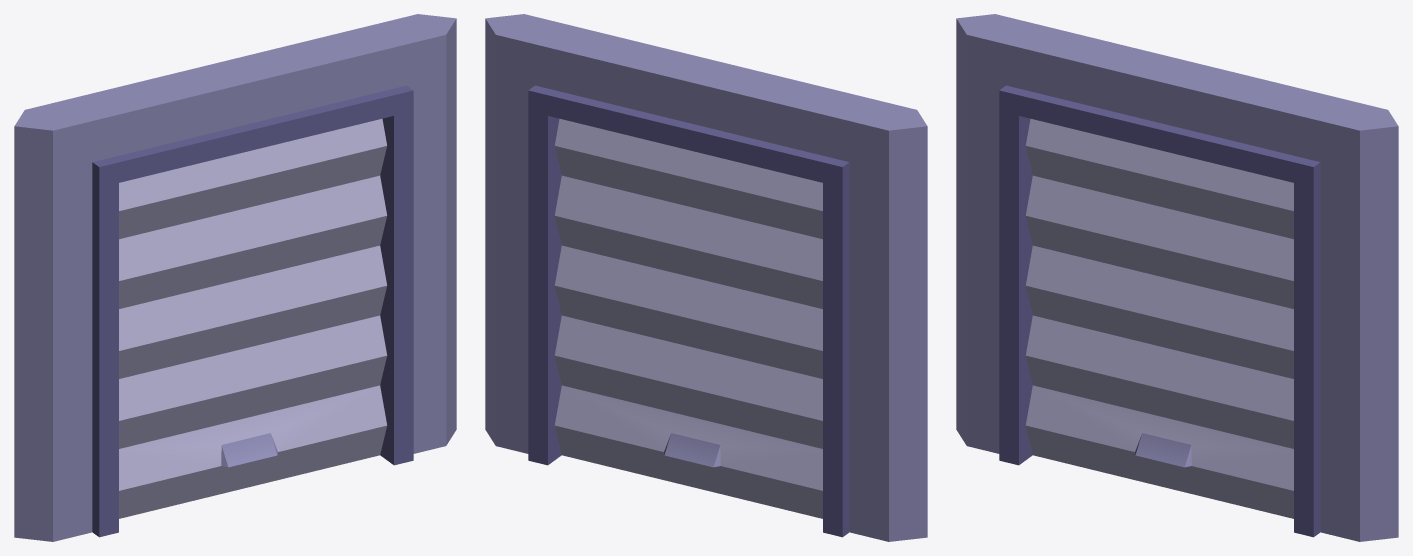
Rendered from Wall_ClosedDoor.fbx.
3 renders of one model, left to right at view 1: azimuth 30°, elevation 25°; view 2: azimuth 150°, elevation 25°; view 3: azimuth 330°, elevation 25°, orthographic.
Visible parts, largest first — view 1: doorway_wideGarageRoll; view 2: doorway_wideGarageRoll; view 3: doorway_wideGarageRoll.
Part boxes in pixels (bbox=[...]): doorway_wideGarageRoll: bbox=[14, 14, 456, 541]; doorway_wideGarageRoll: bbox=[485, 14, 927, 541]; doorway_wideGarageRoll: bbox=[956, 14, 1398, 541].
Bounding box in the file's own units: 11.25 × 10 × 1.85.
